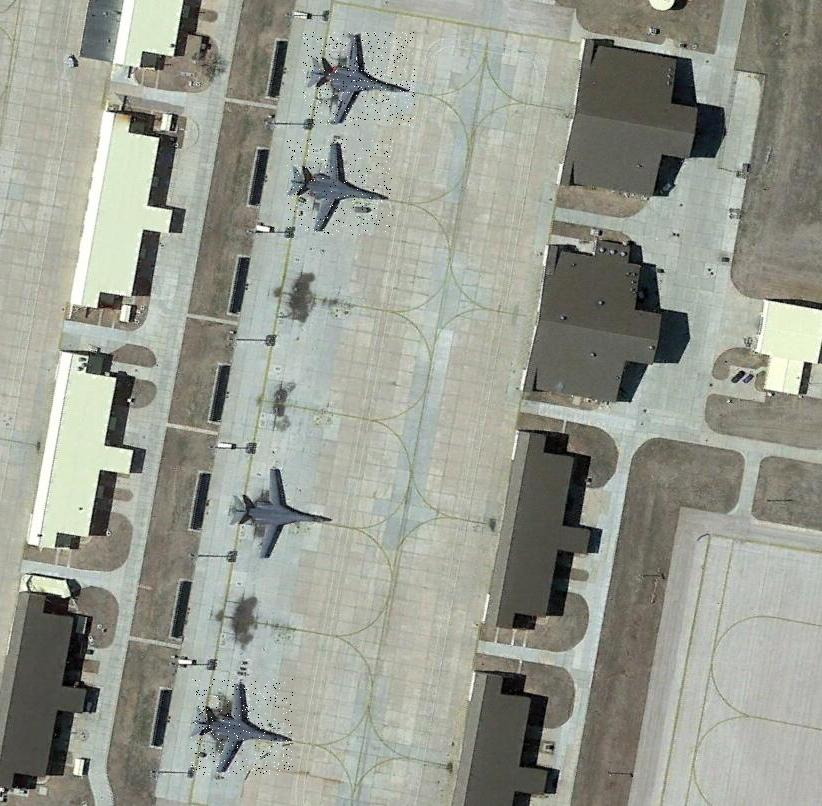A10: (303, 32, 415, 126), (225, 463, 331, 560), (287, 139, 393, 235), (191, 679, 293, 775)
